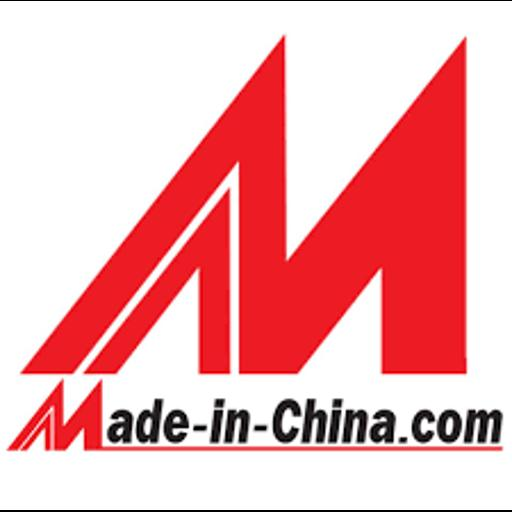Made-In-China: (0, 1, 512, 510)
